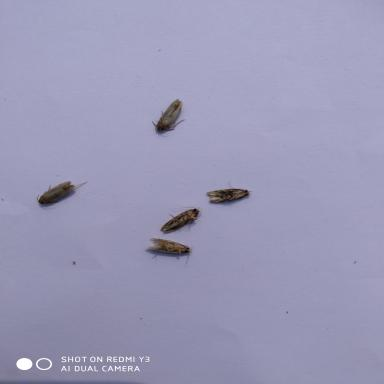pbw: (32, 177, 90, 207), (144, 236, 194, 268), (150, 96, 187, 139), (204, 180, 254, 206), (159, 206, 203, 235)
